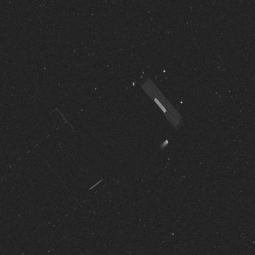proba_3_csc: (2, 68, 195, 204)
